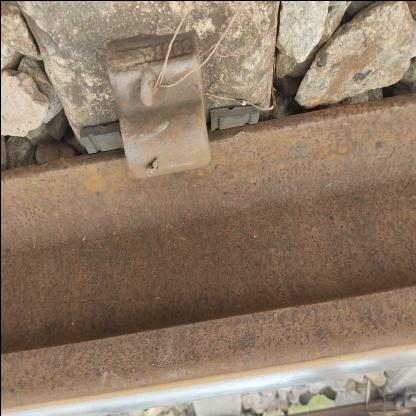Defective 1: (66, 10, 254, 210)
